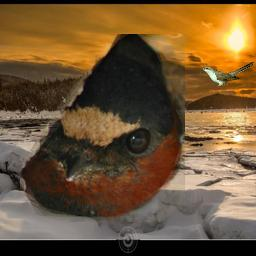Cuckoo: (200, 61, 254, 86)
Swallow: (20, 34, 185, 222)
